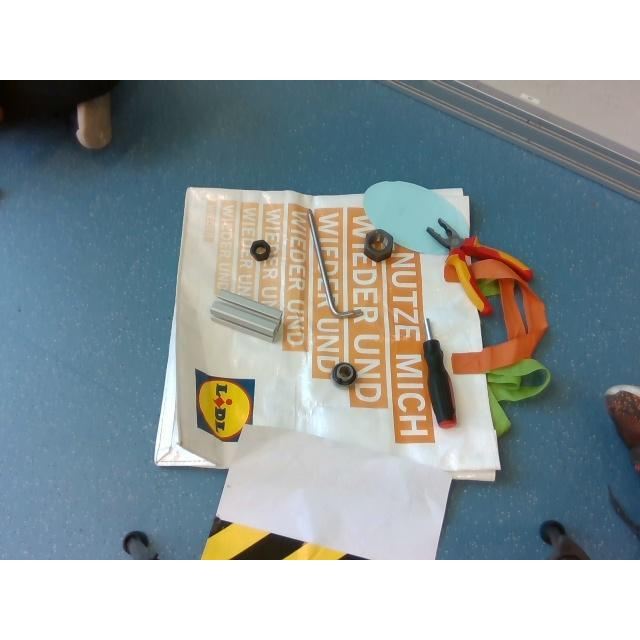AllenKey: (306, 208, 362, 318)
Bearing2: (331, 362, 357, 386)
M20: (249, 240, 271, 260)
M30: (363, 230, 393, 262)
S40_40_G: (210, 289, 282, 341)
